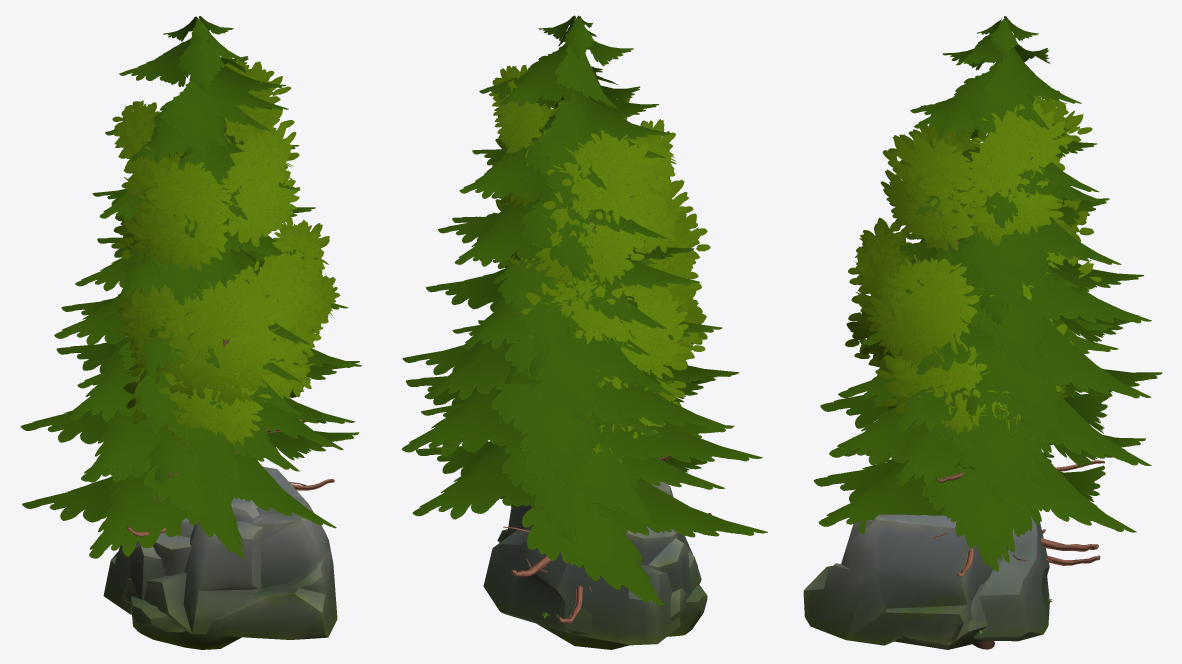
Rendered from nature.glb.
3 renders of one model, left to right at view 1: azimuth 30°, elevation 25°; view 2: azimuth 150°, elevation 25°; view 3: azimuth 270°, elevation 25°, orthographic. The views are drawn at different scales.
Visible parts, largest first — view 1: CommonTree_3, Pine_4, Pine_2, Rock_Medium_3, CommonTree_5, Rock_Medium_1, Rock_Medium_2; view 2: Pine_4, CommonTree_3, Pine_2, Rock_Medium_2, CommonTree_5, Rock_Medium_3, Rock_Medium_1; view 3: Pine_4, CommonTree_3, Pine_2, Rock_Medium_3, Rock_Medium_2, CommonTree_5, Rock_Medium_1.
Part boxes in pixels (<box>): CommonTree_3: <box>112,57,340,453</box>; Pine_4: <box>20,16,361,536</box>; Pine_2: <box>22,244,359,558</box>; Rock_Medium_3: <box>130,466,337,649</box>; CommonTree_5: <box>115,242,320,452</box>; Rock_Medium_1: <box>121,497,263,634</box>; Rock_Medium_2: <box>103,532,191,614</box>; Pine_4: <box>402,15,762,623</box>; CommonTree_3: <box>487,65,710,421</box>; Pine_2: <box>412,256,767,605</box>; Rock_Medium_2: <box>483,526,681,645</box>; CommonTree_5: <box>507,254,705,463</box>; Rock_Medium_3: <box>497,505,707,636</box>; Rock_Medium_1: <box>510,481,701,649</box>; Pine_4: <box>820,16,1162,576</box>; CommonTree_3: <box>845,90,1093,649</box>; Pine_2: <box>813,215,1145,571</box>; Rock_Medium_3: <box>803,514,1008,645</box>; Rock_Medium_2: <box>972,515,1049,641</box>; CommonTree_5: <box>854,250,1101,645</box>; Rock_Medium_1: <box>894,515,1049,649</box>.
Size of the model in its own units: 5.82 by 10.32 by 5.53.
Materials: 9 (9 with a texture image).
